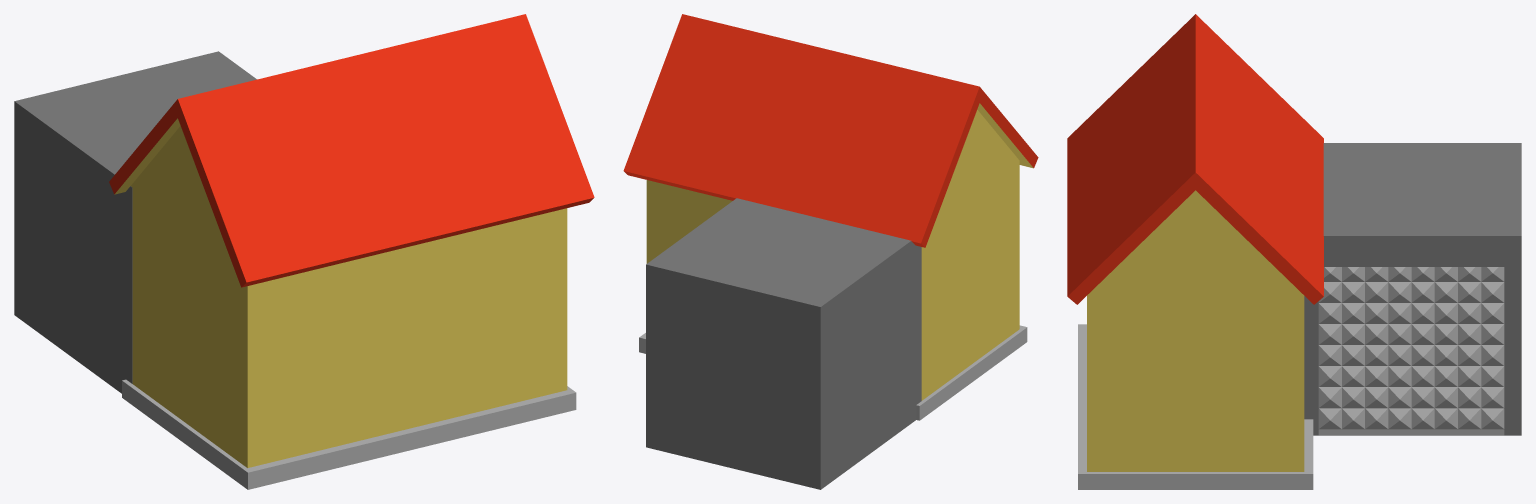
File: Dom_1.fbx
3 renders of one model, left to right at view 1: azimuth 30°, elevation 25°; view 2: azimuth 150°, elevation 25°; view 3: azimuth 270°, elevation 25°, orthographic. The views are drawn at different scales.
Parts seen in each view (by area): view 1: Cube, Cube.003, Cube.001; view 2: Cube, Cube.003, Cube.001; view 3: Cube, Cube.003, Cube.001.
Boxes of the visible parts, box(x1,y1,x2,y2) form: Cube: box(109, 14, 594, 467); Cube.003: box(14, 51, 256, 393); Cube.001: box(122, 379, 576, 489); Cube: box(623, 14, 1038, 400); Cube.003: box(646, 198, 921, 489); Cube.001: box(639, 325, 1027, 420); Cube: box(1067, 14, 1323, 471); Cube.003: box(1304, 143, 1521, 435); Cube.001: box(1078, 324, 1313, 489).
Bounding box in the file's own units: 6.19 × 5.89 × 7.5.
